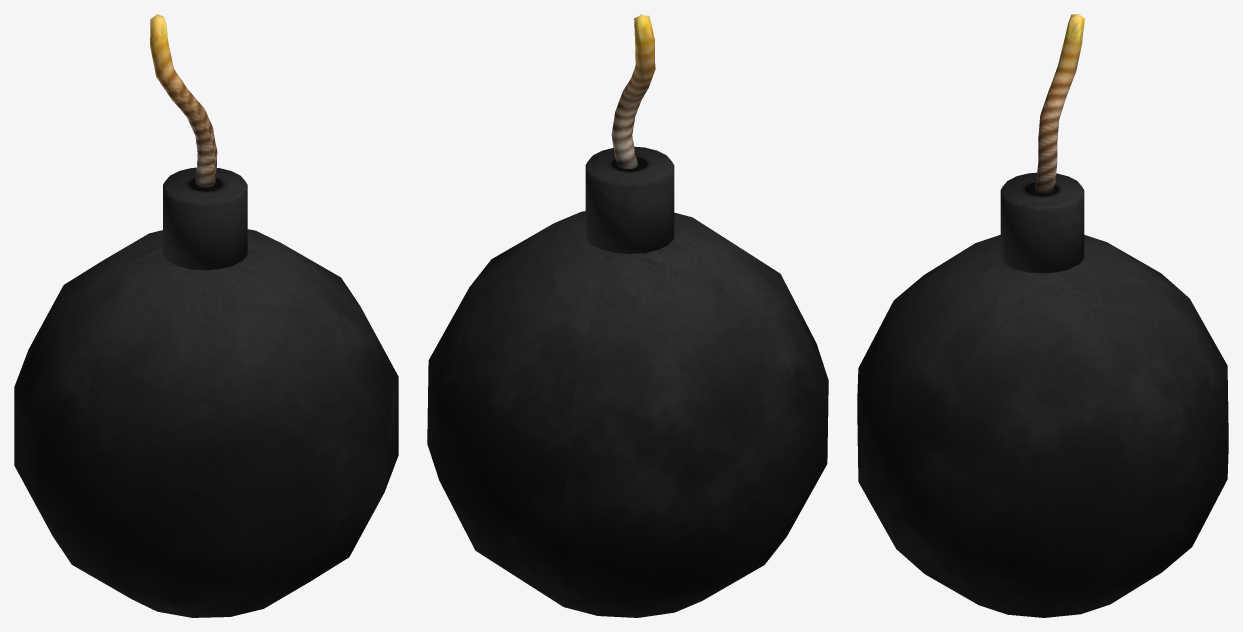
File: Bomb.FBX
3 views of the same model, side by side, from view 1: azimuth 30°, elevation 25°; view 2: azimuth 150°, elevation 25°; view 3: azimuth 270°, elevation 25° (orthographic). The views are drawn at different scales.
Visible parts, largest first — view 1: Bomb; view 2: Bomb; view 3: Bomb.
Boxes of the visible parts, x1,y1,x2,y2 form: Bomb: (14,14,398,617); Bomb: (427,14,828,617); Bomb: (857,14,1228,617).
Size of the model in its own units: 0.3626 by 0.602 by 0.3551.
